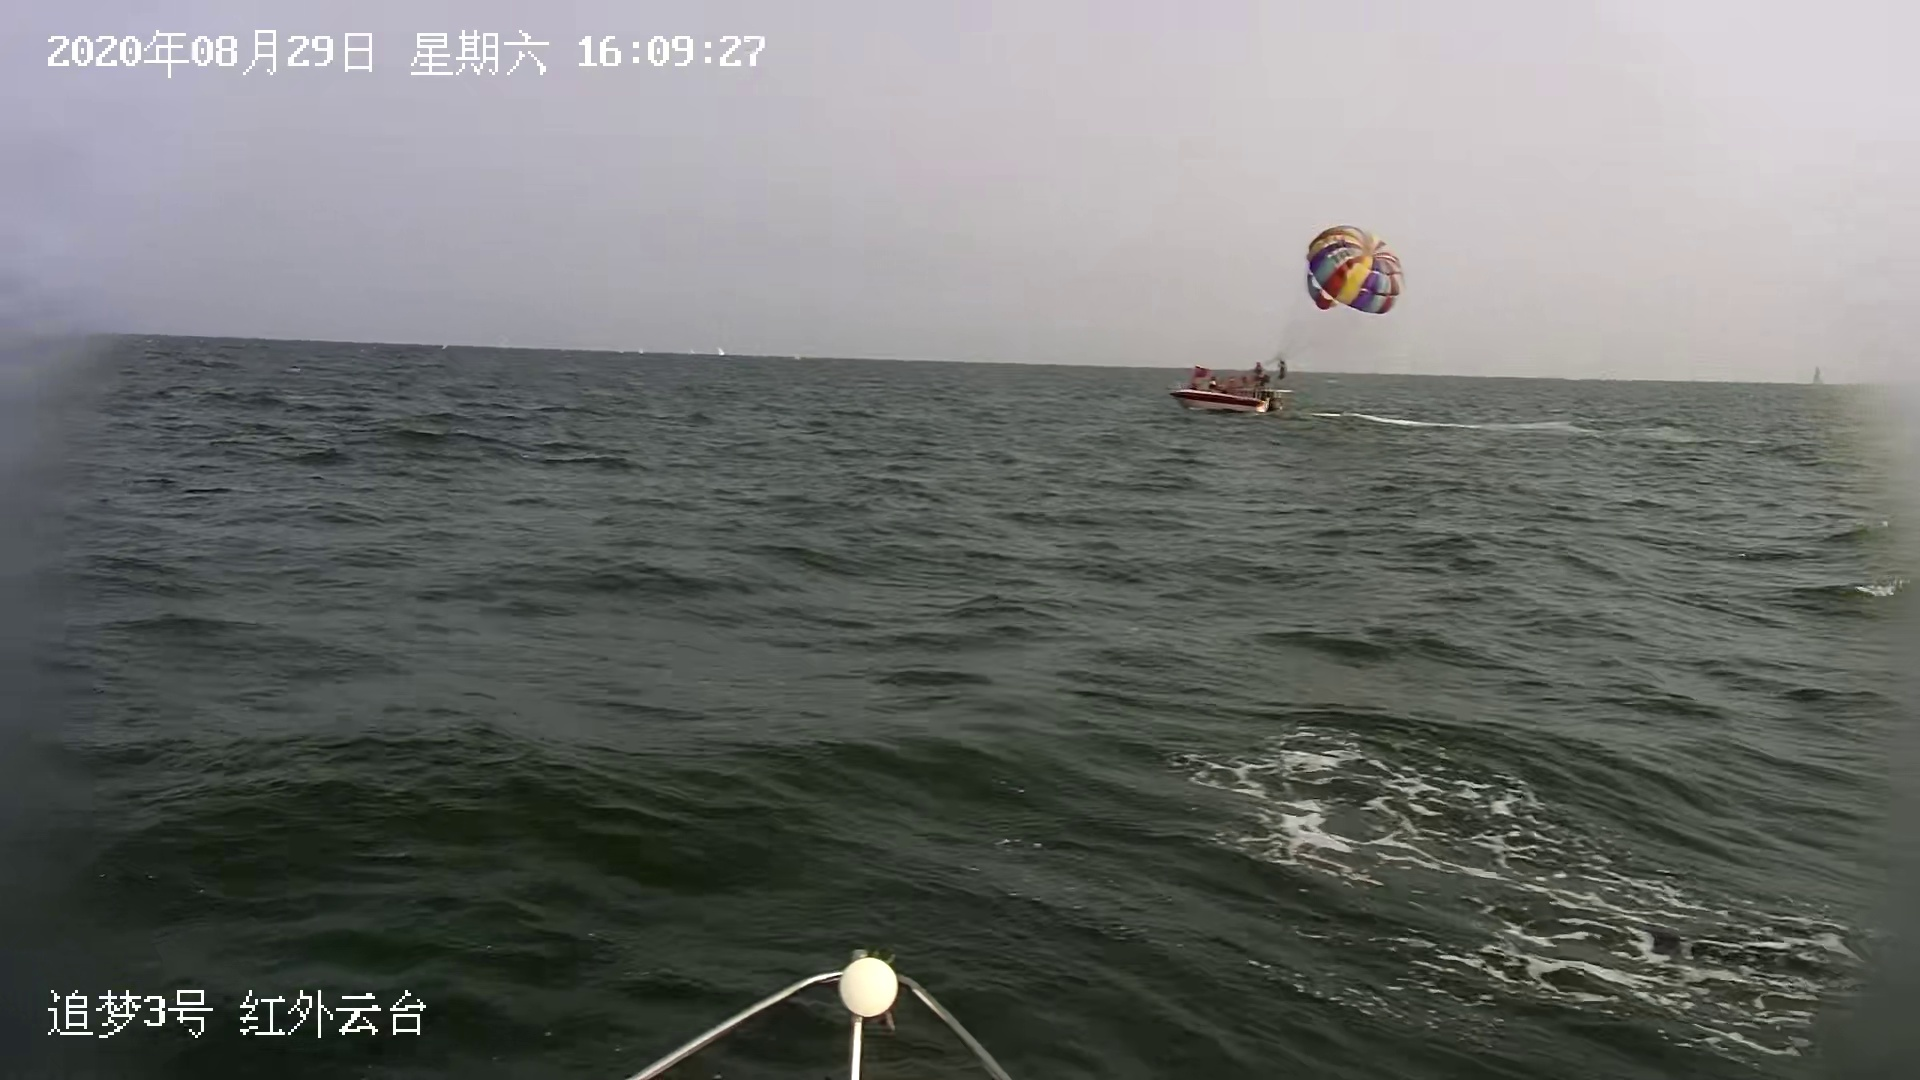barrier: (1174, 349, 1284, 423), (717, 345, 727, 357), (440, 342, 448, 352), (640, 345, 646, 353), (688, 347, 695, 355)
